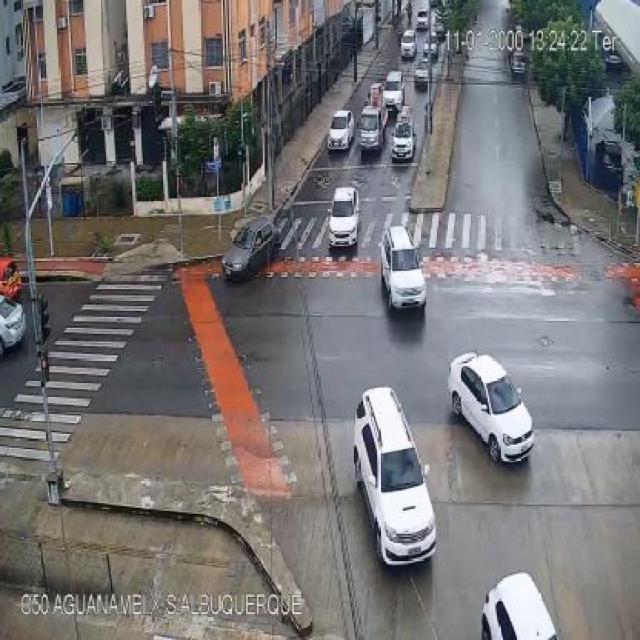Car: (353, 385, 436, 568), (450, 350, 534, 462), (481, 568, 559, 640), (380, 226, 428, 312), (221, 216, 278, 279), (328, 189, 359, 250), (0, 292, 28, 351), (328, 110, 353, 150), (382, 70, 406, 110), (413, 60, 434, 87), (424, 31, 439, 59), (512, 49, 528, 71)
Truck: (356, 84, 390, 151), (390, 105, 416, 162)
Van: (400, 31, 417, 60)
